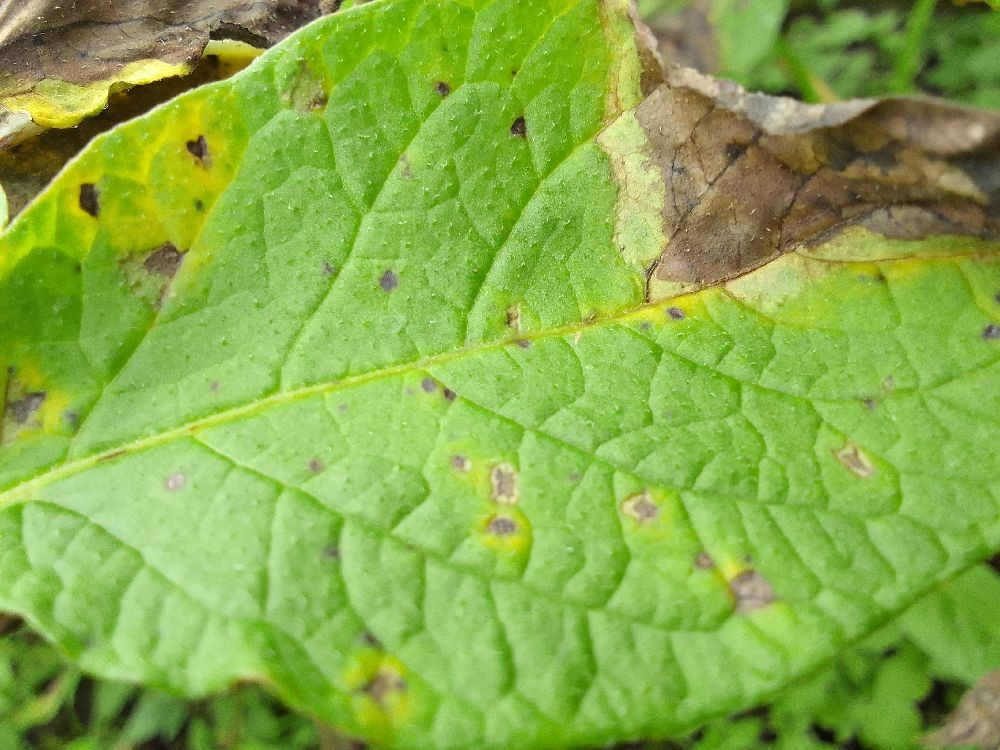late_blight: (581, 0, 999, 336), (0, 0, 384, 259), (903, 661, 1000, 750)
